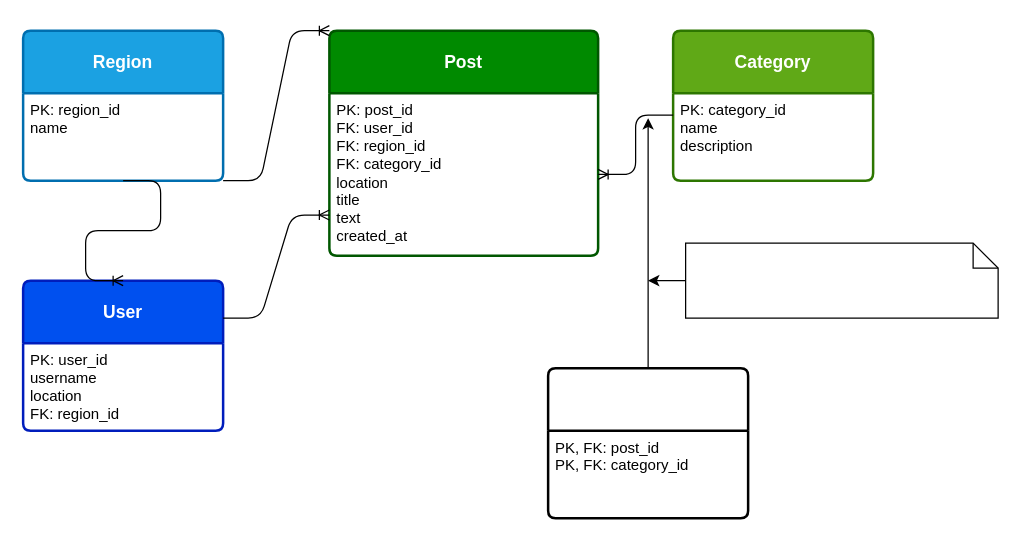
The diagram is 1020 pixels wide and 541 high, and some of its shapes have lost their labels. The box of each missing label's shape, as (x1, y1, x2, y2) in pixels:
If posts can belong to mulitple categories, this would be added here: (684, 242, 998, 318)
post_category: (546, 366, 749, 519)
